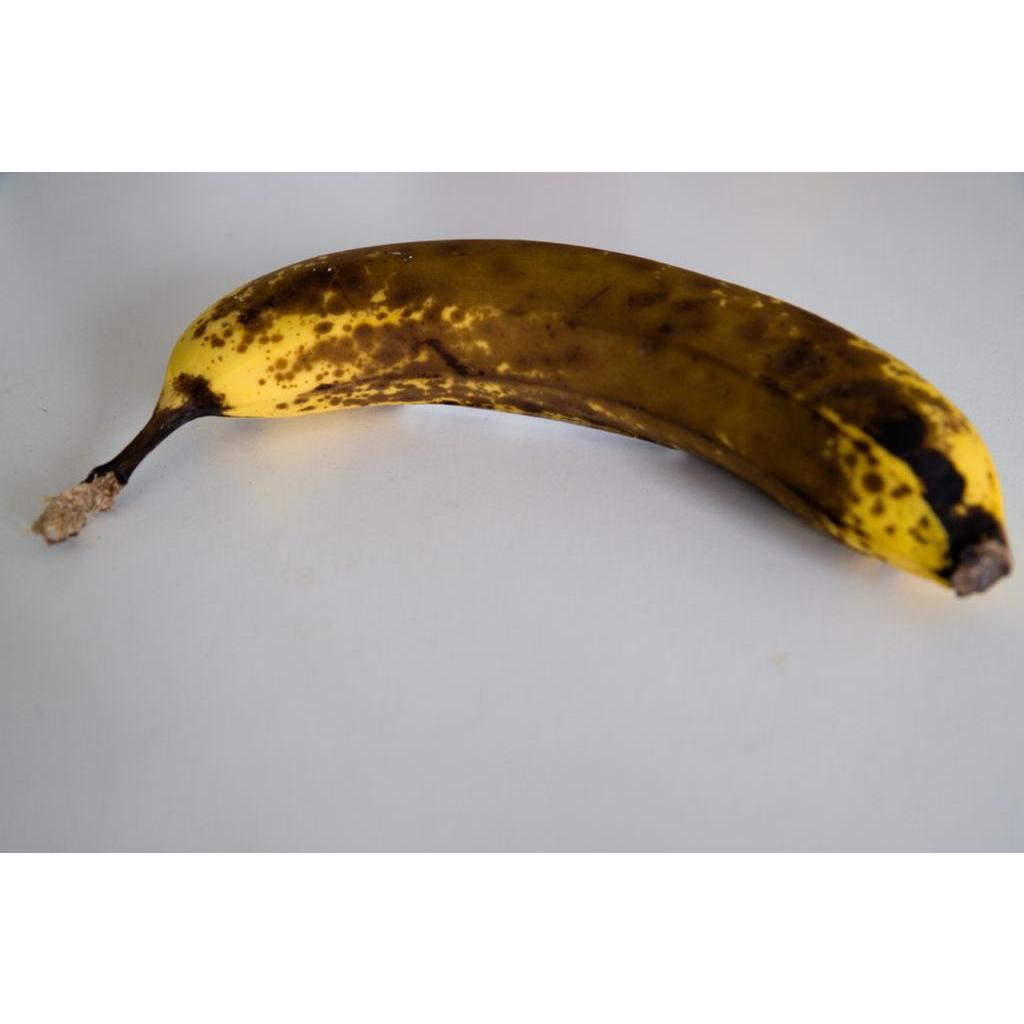banana: (47, 240, 1015, 600)
